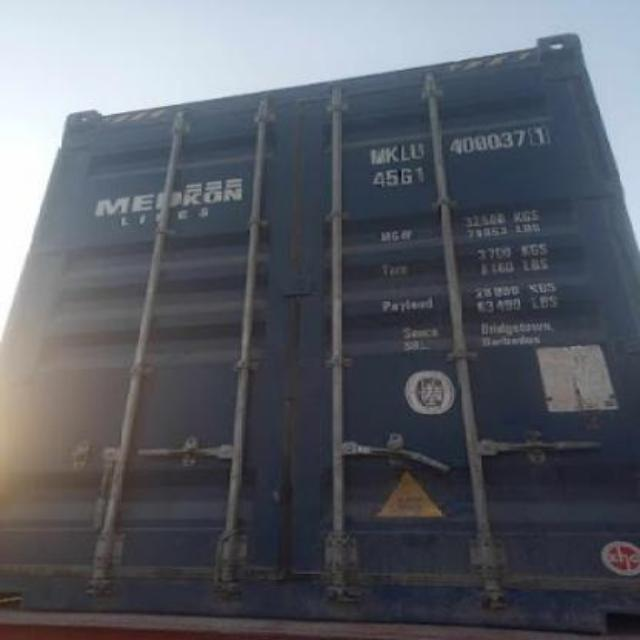0: (486, 129, 499, 155), (462, 132, 474, 158), (474, 130, 486, 154)
1: (530, 124, 548, 146)
3: (498, 127, 512, 153)
4: (448, 134, 460, 158)
7: (510, 125, 526, 149)
K: (384, 144, 396, 166)
L: (396, 143, 409, 161)
M: (368, 144, 384, 166)
U: (411, 142, 424, 162)
